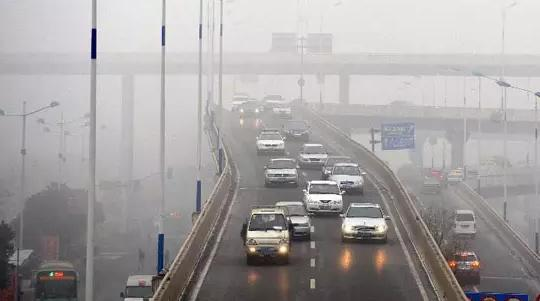bus: (34, 256, 80, 300), (117, 273, 167, 301)
car: (244, 206, 292, 263), (339, 200, 392, 245), (301, 178, 344, 214), (273, 200, 313, 238), (327, 163, 368, 194), (446, 250, 481, 284), (263, 156, 300, 186), (320, 155, 356, 179), (254, 129, 286, 154), (297, 144, 330, 168), (451, 209, 477, 237), (281, 119, 311, 140), (421, 173, 443, 194), (442, 166, 464, 185), (261, 93, 283, 108), (273, 102, 293, 118), (239, 102, 259, 117), (230, 94, 248, 110)
